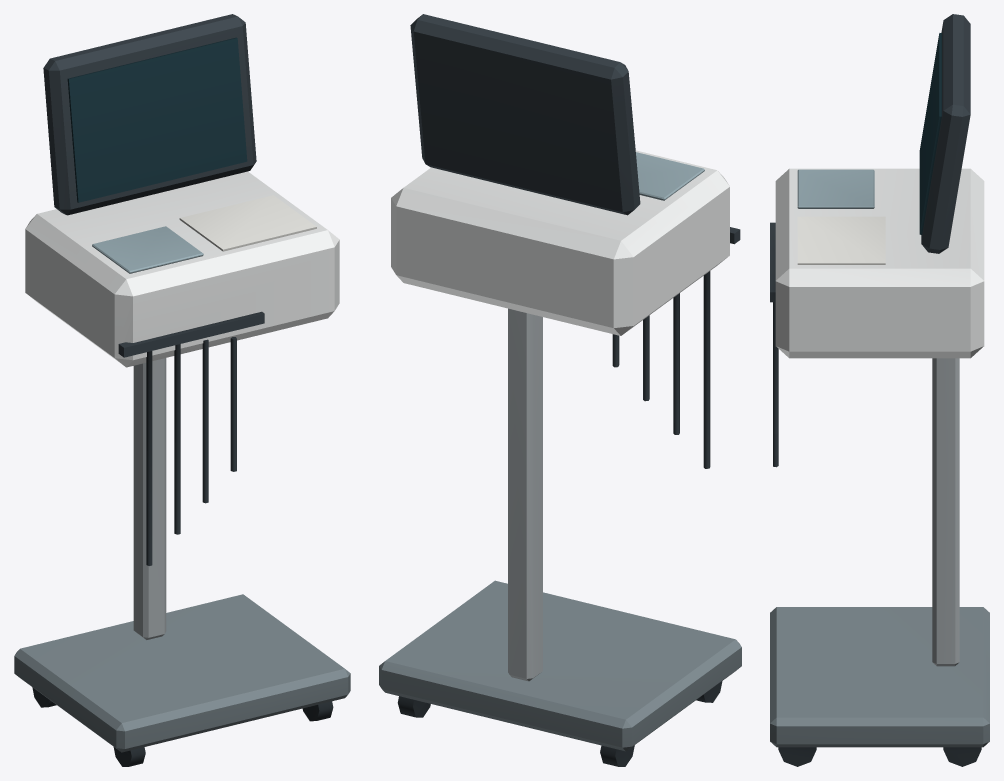
The model's file is ecg.glb.
3 views of the same model, side by side, from view 1: azimuth 30°, elevation 25°; view 2: azimuth 150°, elevation 25°; view 3: azimuth 270°, elevation 25° (orthographic). The views are drawn at different scales.
Visible parts, largest first — view 1: body, base, screen, bezel, post, leads, paper, keys, wheels; view 2: body, base, bezel, post, leads, keys, wheels; view 3: body, base, post, bezel, paper, keys, screen, leads, wheels.
Part boxes in pixels (x1,y1,x2,y2): body: [25, 171, 339, 367]; base: [14, 594, 350, 752]; screen: [67, 37, 247, 202]; bezel: [43, 14, 256, 215]; post: [133, 358, 166, 639]; leads: [118, 311, 264, 565]; paper: [179, 195, 316, 251]; keys: [92, 226, 203, 273]; wheels: [32, 687, 333, 766]; body: [391, 150, 729, 335]; base: [379, 580, 741, 751]; bezel: [410, 14, 640, 215]; post: [508, 308, 542, 681]; leads: [612, 227, 740, 468]; keys: [636, 152, 704, 200]; wheels: [397, 681, 722, 766]; body: [775, 168, 984, 358]; base: [770, 607, 989, 747]; post: [932, 358, 959, 666]; bezel: [921, 14, 970, 253]; paper: [797, 216, 885, 264]; keys: [797, 169, 874, 208]; screen: [919, 33, 941, 234]; leads: [770, 222, 778, 467]; wheels: [778, 747, 981, 766].
Bounding box in the file's own units: 0.5 × 1.32 × 0.4.
